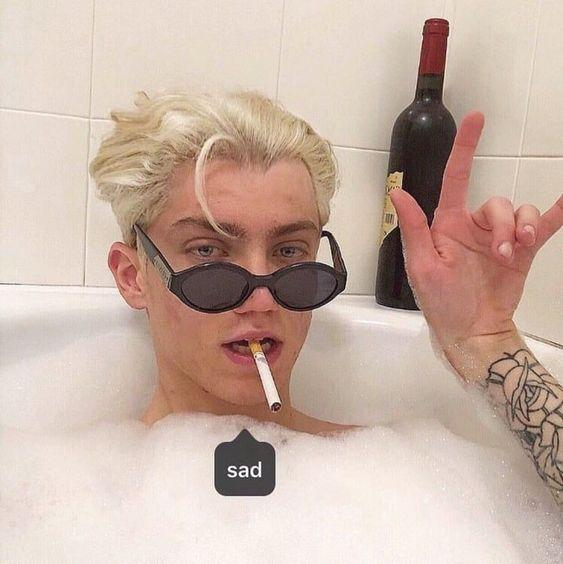cigarette: (249, 341, 282, 412)
